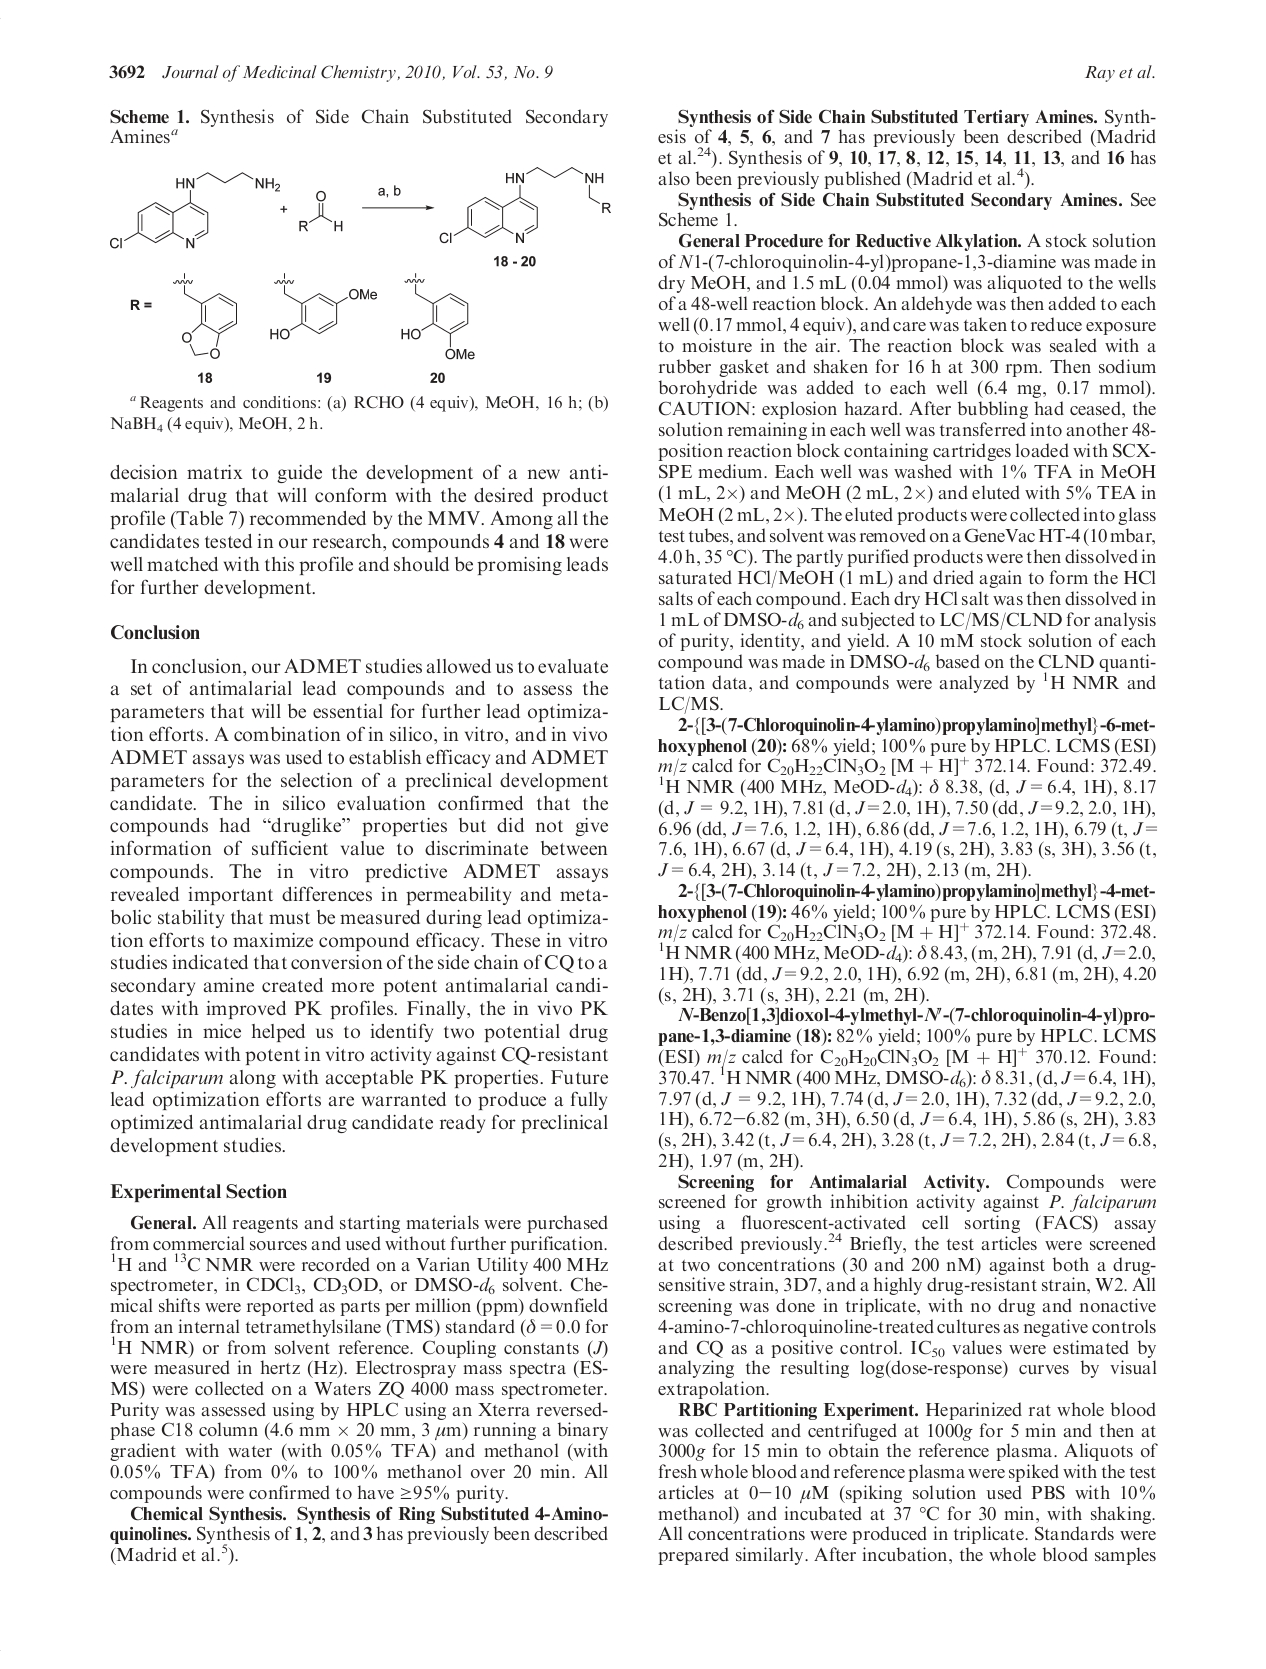exist_molecular: (106, 161, 286, 253), (430, 164, 622, 247), (258, 275, 388, 351), (153, 265, 246, 367), (394, 265, 479, 360), (281, 186, 356, 239)
